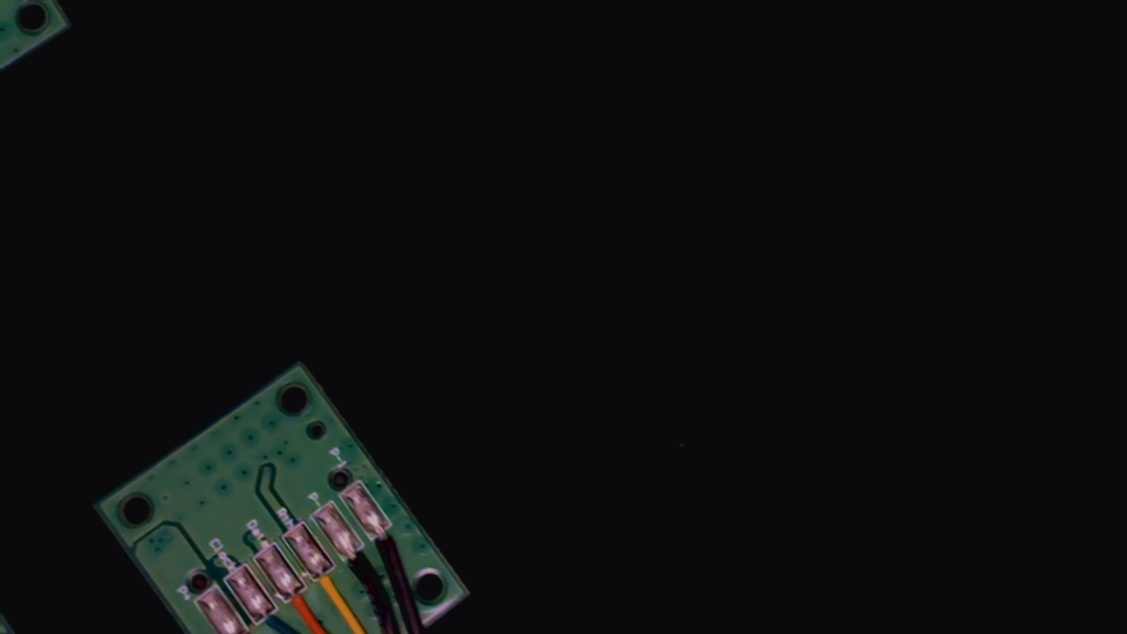Black: (333, 534, 387, 596)
Black1: (361, 513, 418, 578)
Green: (244, 596, 298, 634)
Orange: (274, 577, 327, 634)
Red: (215, 618, 275, 634)
Yellow: (304, 554, 360, 616)
